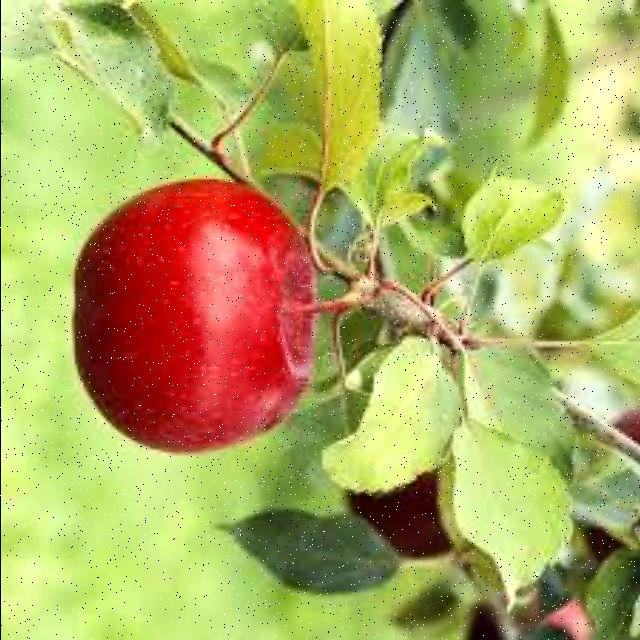HEALTHY: (64, 158, 320, 486)
